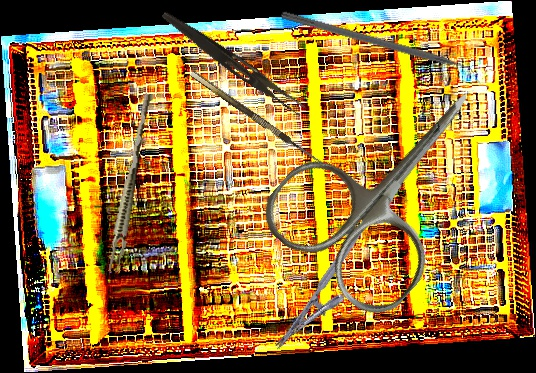Chopper: (277, 10, 486, 87)
Dressing Forceps: (156, 9, 310, 117)
Hook Surgical: (189, 62, 343, 177)
Iris Scissors: (251, 41, 532, 328)
Needle Holder: (272, 201, 401, 365)
Tissue Forceps: (106, 91, 155, 274)
